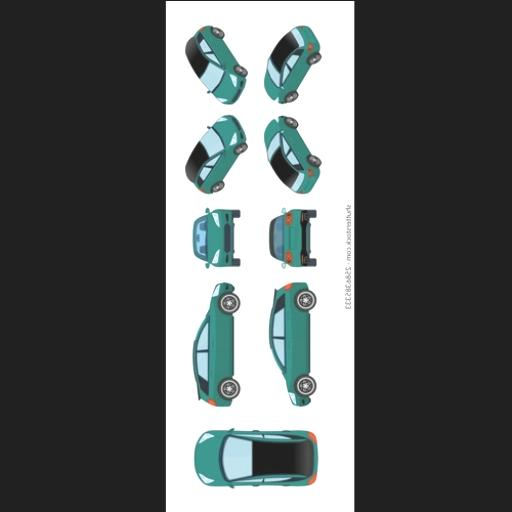hatchback: (195, 430, 315, 484), (269, 282, 315, 406), (194, 282, 240, 406), (184, 115, 247, 193), (184, 24, 247, 101), (263, 115, 319, 193), (263, 24, 319, 101), (194, 207, 240, 266), (269, 207, 315, 265)
